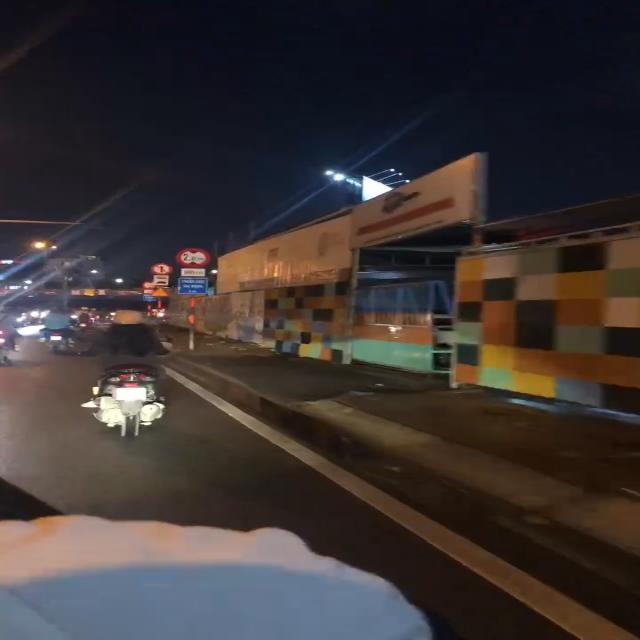Bien bao cam di thang: (150, 262, 174, 275)
Bien bao han che chieu cao: (173, 244, 215, 268)
